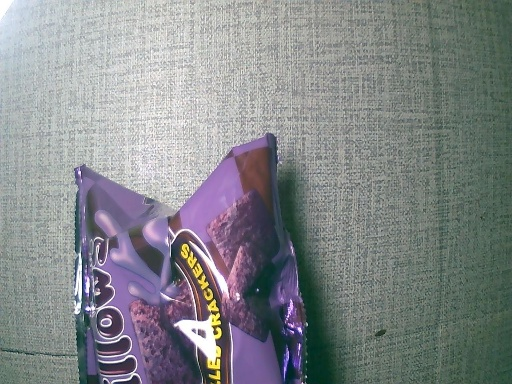plastic: (71, 136, 313, 384)
